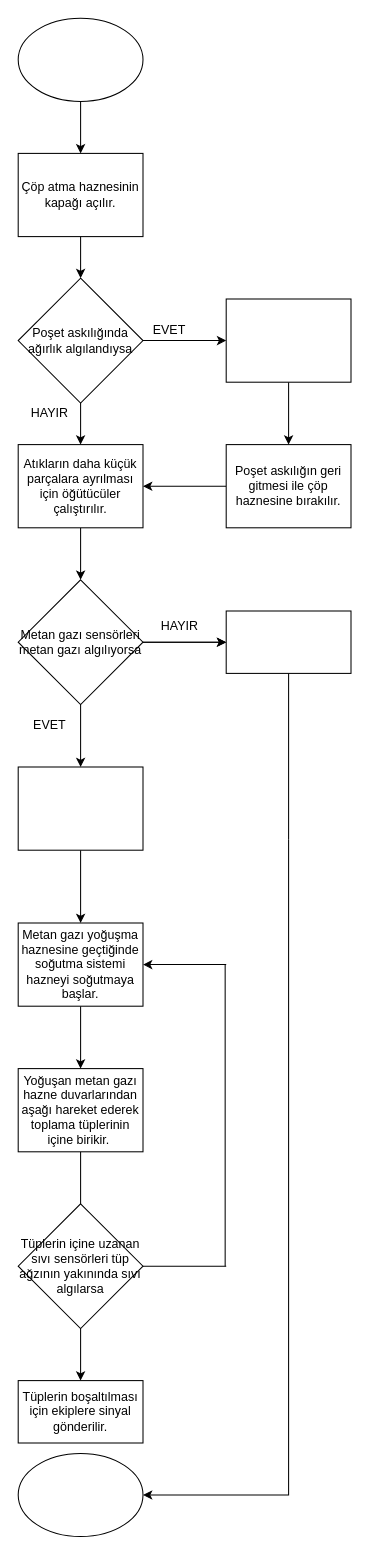
The diagram is 369 pixels wide and 1555 high, and some of its shapes have lost their labels. The shapes that lost their labels are listed below. From the top down, each one's centre as x and y in pixels, then its label:
the point at 80,59: BAŞLA
the point at 288,340: Poşetin altına kesmek için dönme hareketi yapan kesici çalıştırılır.
the point at 288,641: Çöplerin toplanması için ekiplere sinyal gönderilir.
the point at 80,808: Metan gazının yoğuşma haznesine çekilmesi için vakum motorları çalıştırılır.
the point at 80,1494: SON
